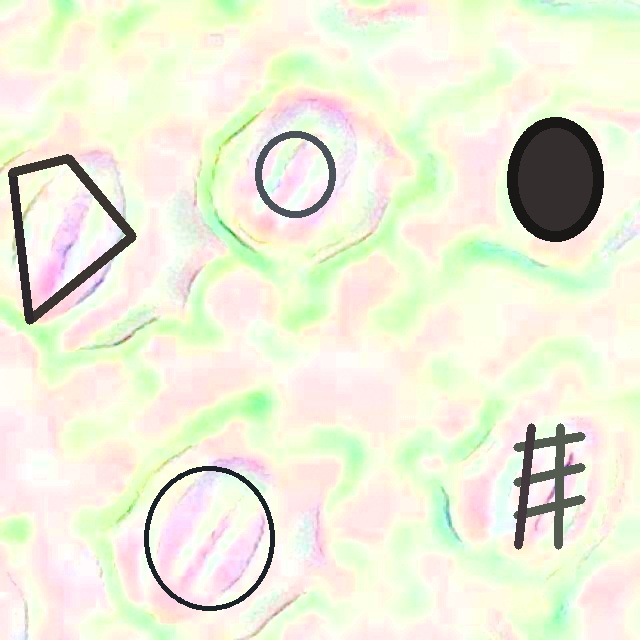close: (507, 117, 603, 241), (513, 423, 585, 549)
open: (9, 154, 135, 323), (144, 465, 275, 611), (254, 129, 336, 218)
